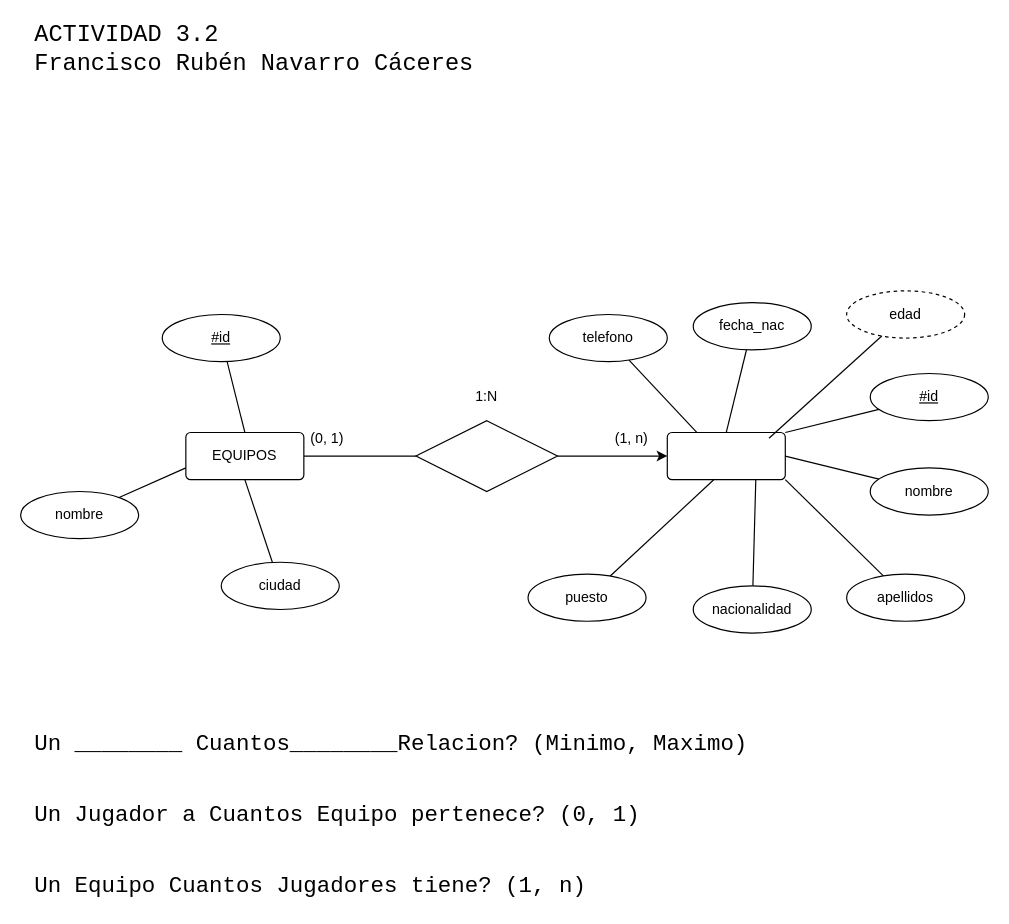
The diagram is 1009 pixels wide and 924 high, and some of its shapes have lost their labels. The shapes that lost their labels are listed below. From the top down, each one's centre as x and y in pixels, then its label:
the point at 486,455: pertenece
the point at 725,455: JUGADORES
